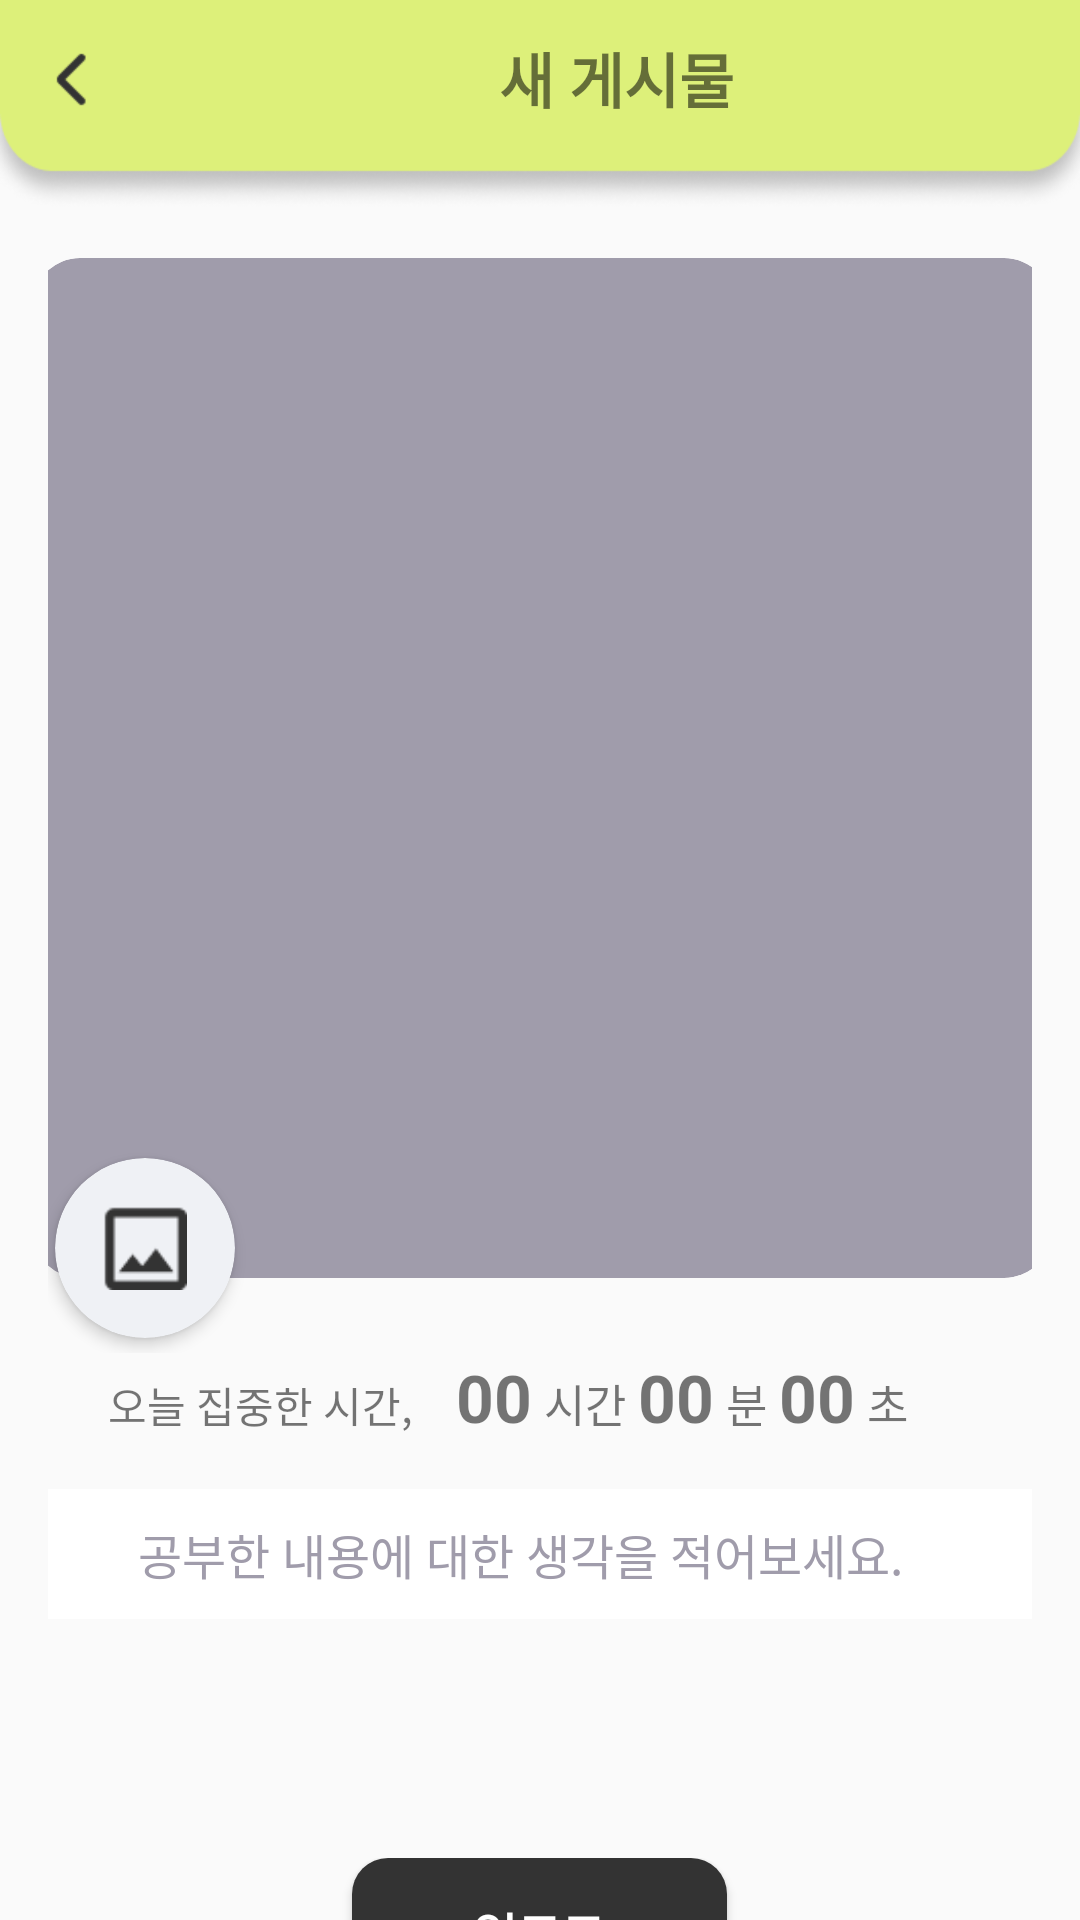

Point at icon controls on the screen. Image size 1080x1920, points as (x=x, y=y).
뒤로가기 버튼: (x=71, y=79)
사진 선택 버튼: (x=145, y=1248)
